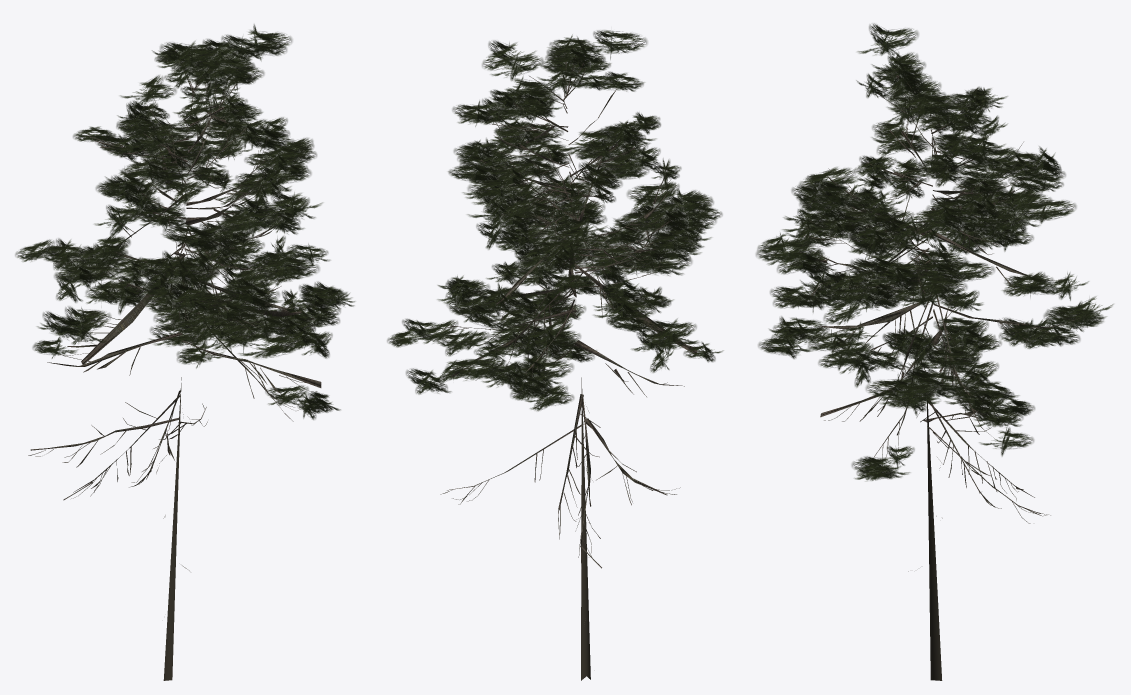
File: tree-v3-high.glb
3 views of the same model, side by side, from view 1: azimuth 30°, elevation 25°; view 2: azimuth 150°, elevation 25°; view 3: azimuth 270°, elevation 25° (orthographic). The views are drawn at different scales.
Parts seen in each view (by area): view 1: tree-v3-high; view 2: tree-v3-high; view 3: tree-v3-high.
Part boxes in pixels (bbox=[...]): tree-v3-high: bbox=[15, 24, 355, 680]; tree-v3-high: bbox=[387, 30, 723, 680]; tree-v3-high: bbox=[756, 23, 1113, 680].
Size of the model in its own units: 6.08 by 12.46 by 6.28.
4 materials, 4 textured.
